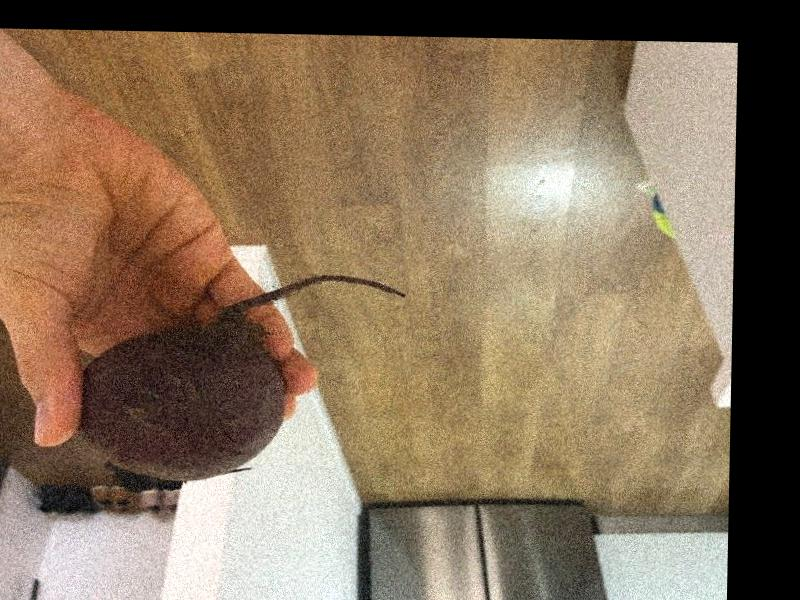Beet: (78, 270, 406, 495)
